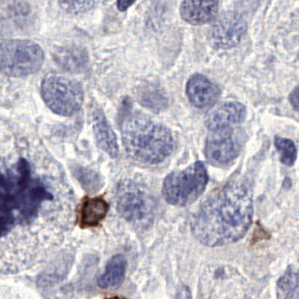Lymphocyte: (75, 194, 110, 229)
